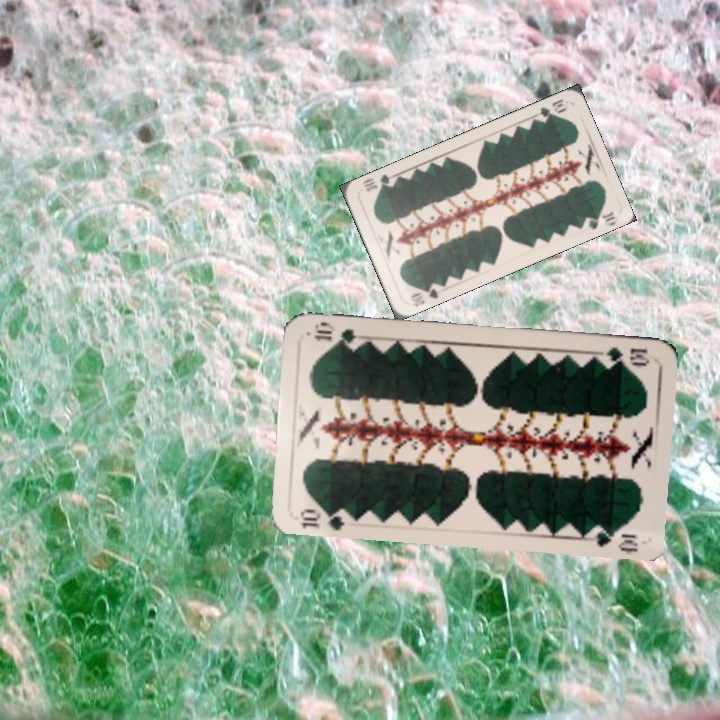G10: (296, 503, 351, 532), (594, 343, 653, 368), (532, 95, 569, 124), (407, 281, 441, 309)
